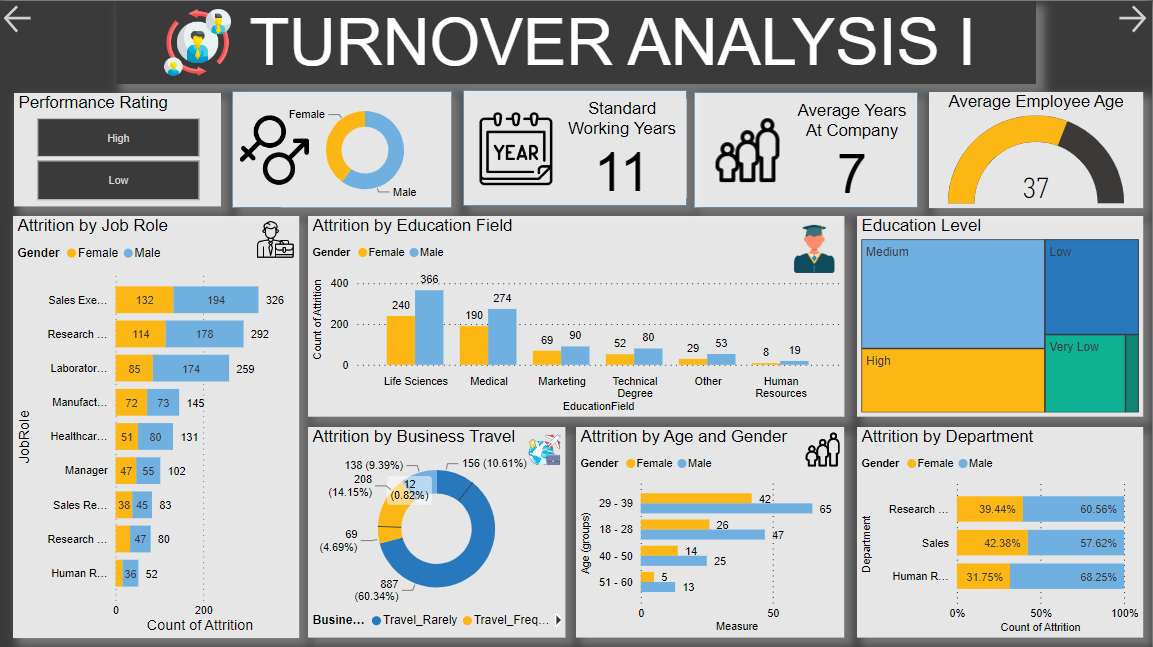

Layout of this report page (visuals, bound fields, positions):
{"tool":"powerbi","page":{"name":"Turnover analysis 1","canvas":[1280,720],"ordinal":2},"visuals":[{"type":"group","id":"g1","title":"Group 1","box":[128.9,0,1022.2,92.2],"z":0},{"type":"shape","box":[128.9,0,1022.2,92.2],"z":0,"group":"g1"},{"type":"shape","box":[514.4,98.9,248.9,128.9],"z":0,"group":"g4"},{"type":"shape","box":[257.8,100,244.4,130],"z":0,"group":"g3"},{"type":"shape","box":[771.1,101.1,248.9,128.9],"z":0,"group":"g5"},{"type":"textbox","box":[272.4,0,844.4,92.2],"z":1000,"group":"g1"},{"type":"donutChart","fields":{"Category":["HR-Employee-Attrition.Gender"],"Y":["CountNonNull(HR-Employee-Attrition.Attrition)"]},"box":[311.9,102.1,186.7,127],"z":1000,"group":"g3"},{"type":"card","title":"Standard Working Years","fields":{"Values":["Avg(HR-Employee-Attrition.TotalWorkingYears)"]},"box":[619.3,108.9,144.4,110],"z":1000,"group":"g4"},{"type":"card","title":"Average Years At Company","fields":{"Values":["Avg(HR-Employee-Attrition.YearsAtCompany)"]},"box":[874.4,111,144.4,110],"z":1000,"group":"g5"},{"type":"barChart","title":"Attrition by Job Role","fields":{"Y":["CountNonNull(HR-Employee-Attrition.Attrition)"],"Category":["HR-Employee-Attrition.JobRole"],"Series":["HR-Employee-Attrition.Gender"]},"box":[14.4,238.9,317.8,468.9],"z":1000},{"type":"image","box":[165.6,0,106.7,92.2],"z":2000,"group":"g1"},{"type":"image","box":[259.4,116.7,92.2,96.7],"z":2000,"group":"g3"},{"type":"image","box":[790.2,122.2,81.1,85.6],"z":2000,"group":"g5"},{"type":"clusteredColumnChart","title":"Attrition by Education Field","fields":{"Category":["HR-Employee-Attrition.EducationField"],"Y":["CountNonNull(HR-Employee-Attrition.Attrition)"],"Series":["HR-Employee-Attrition.Gender"]},"box":[342.2,238.9,595.6,223.3],"z":2000},{"type":"hundredPercentStackedBarChart","title":"Attrition by Department","fields":{"Y":["CountNonNull(HR-Employee-Attrition.Attrition)"],"Category":["HR-Employee-Attrition.Department"],"Series":["HR-Employee-Attrition.Gender"]},"box":[952.2,473.3,317.8,234.4],"z":3000},{"type":"donutChart","title":"Attrition by Business Travel","fields":{"Category":["HR-Employee-Attrition.BusinessTravel"],"Y":["HR-Employee-Attrition.Measure","HR-Employee-Attrition.Measure 2"]},"box":[342.2,473.3,285.6,234.4],"z":4000},{"type":"clusteredBarChart","title":"Attrition by Age and Gender","fields":{"Category":["HR-Employee-Attrition.Age (groups)"],"Y":["HR-Employee-Attrition.Measure"],"Series":["HR-Employee-Attrition.Gender"]},"box":[640,473,298,234],"z":5000},{"type":"treemap","title":"Education Level","fields":{"Values":["HR-Employee-Attrition.Measure"],"Group":["HR-Employee-Attrition.Education (groups)"]},"box":[952.2,238.9,317.8,223.3],"z":6000},{"type":"gauge","title":"Average Employee Age","fields":{"Y":["Avg(HR-Employee-Attrition.Age)"],"MaxValue":["Max(HR-Employee-Attrition.Age)1"]},"box":[1032.2,101.1,237.8,128.9],"z":7000},{"type":"group","id":"g2","title":"Group 2","box":[771.1,101.1,248.9,128.9],"z":8000},{"type":"group","id":"g3","title":"Group 3","box":[257.8,100,244.4,130],"z":9000},{"type":"group","id":"g4","title":"Group 5","box":[514.4,98.9,249.4,128.9],"z":10000},{"type":"image","box":[527.7,116.7,91.1,94.4],"z":10000,"group":"g4"},{"type":"slicer","title":"Performance Rating","fields":{"Values":["HR-Employee-Attrition.PerformanceRating (groups)"]},"box":[15.6,102.2,230,125.6],"z":11000},{"type":"group","id":"g5","title":"Group 4","box":[771.1,101.1,248.9,128.9],"z":11001,"group":"g2"},{"type":"actionButton","box":[0,0,40,40],"z":12000},{"type":"actionButton","box":[1237.8,0,42.2,40],"z":13000},{"type":"image","box":[871.1,238.9,66.7,73.3],"z":13001},{"type":"image","box":[582.2,473.3,45.6,48.9],"z":13002},{"type":"image","box":[280,238.9,52.2,52.2],"z":13003},{"type":"image","box":[890,473.3,47.8,48.9],"z":13004}]}

Visuals, with their boxes in screenshot pixels (x1, y1, x2, y2), scaled from the page's 1280x720 canvas onto the 1153x647 screenshot:
"Group 1" group: <box>116,0,1037,83</box>
shape: <box>116,0,1037,83</box>
shape: <box>463,89,688,205</box>
shape: <box>232,90,452,207</box>
shape: <box>695,91,919,207</box>
textbox: <box>245,0,1006,83</box>
donutChart - HR-Employee-Attrition.Gender x CountNonNull(HR-Employee-Attrition.Attrition): <box>281,92,449,206</box>
"Standard Working Years" card: <box>558,98,688,197</box>
"Average Years At Company" card: <box>788,100,918,199</box>
"Attrition by Job Role" barChart: <box>13,215,299,636</box>
image: <box>149,0,245,83</box>
image: <box>234,105,317,192</box>
image: <box>712,110,785,187</box>
"Attrition by Education Field" clusteredColumnChart: <box>308,215,845,415</box>
"Attrition by Department" hundredPercentStackedBarChart: <box>858,425,1144,636</box>
"Attrition by Business Travel" donutChart: <box>308,425,566,636</box>
"Attrition by Age and Gender" clusteredBarChart: <box>576,425,845,635</box>
"Education Level" treemap: <box>858,215,1144,415</box>
"Average Employee Age" gauge: <box>930,91,1144,207</box>
"Group 2" group: <box>695,91,919,207</box>
"Group 3" group: <box>232,90,452,207</box>
"Group 5" group: <box>463,89,688,205</box>
image: <box>475,105,557,190</box>
"Performance Rating" slicer: <box>14,92,221,205</box>
"Group 4" group: <box>695,91,919,207</box>
actionButton: <box>0,0,36,36</box>
actionButton: <box>1115,0,1152,36</box>
image: <box>785,215,845,281</box>
image: <box>524,425,566,469</box>
image: <box>252,215,299,262</box>
image: <box>802,425,845,469</box>
